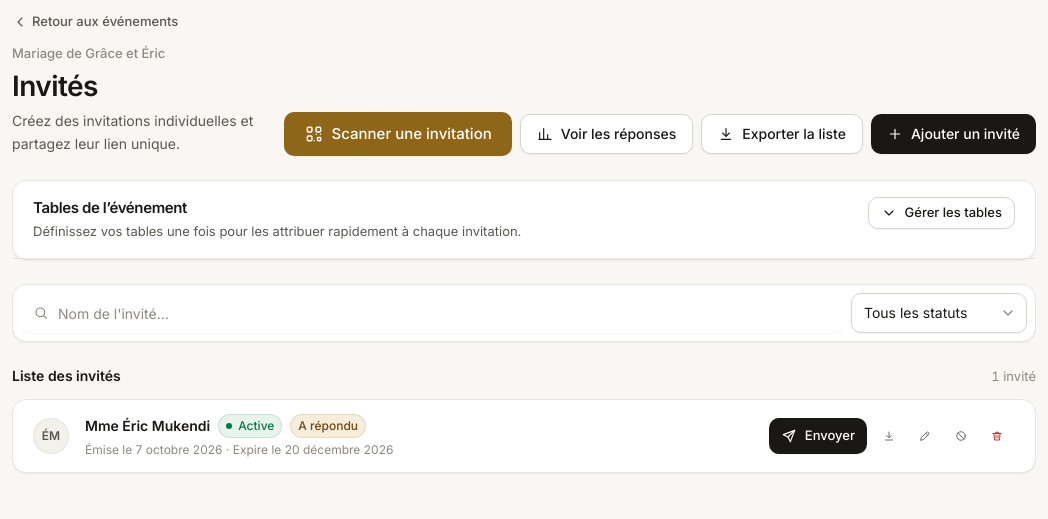
it: GuestsPage › refuses to export an altered invitation when a dress-code photo cannot be loaded
Click the button named "Exporter" at (889, 436), box [871,418,907,454]
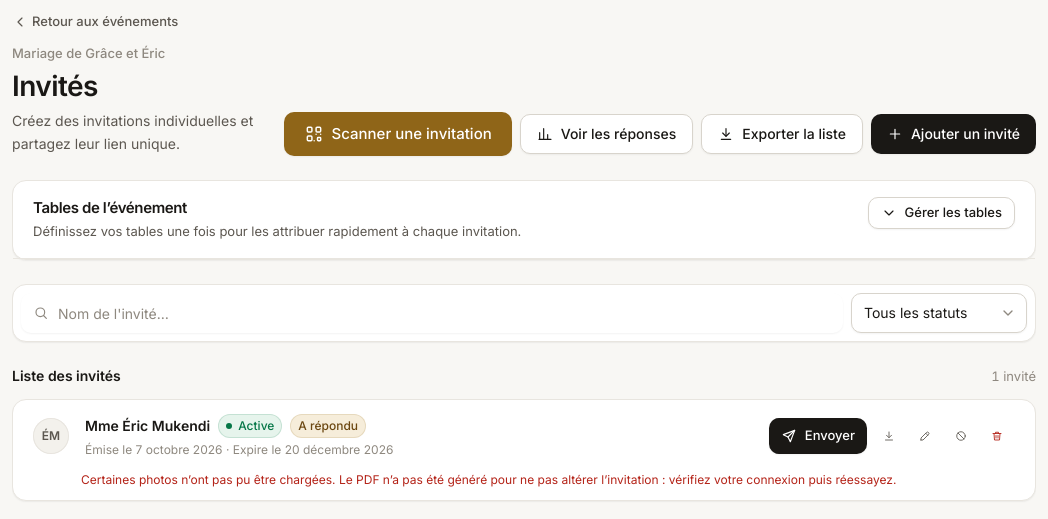
Result: the text "Le PDF n’a pas été généré pour ne pas altérer l’invitation" is shown at [81,472,896,487]
